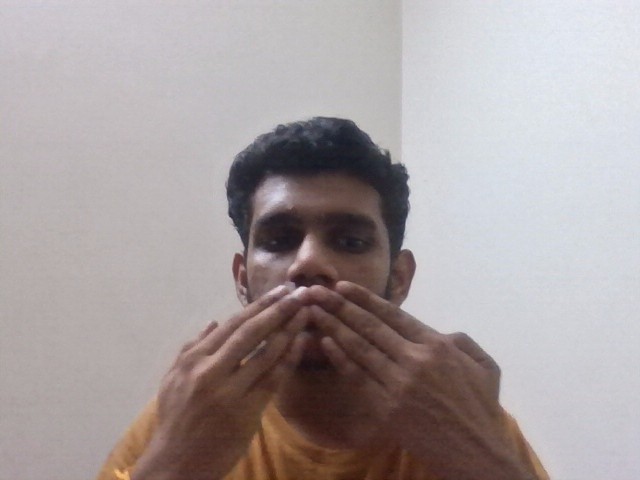thanks: (121, 276, 536, 465)
